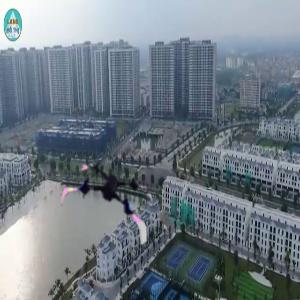drone: (59, 149, 157, 247)
